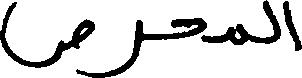X: (0, 0, 94, 77), (105, 15, 141, 77), (172, 13, 204, 46), (283, 0, 301, 55), (265, 0, 279, 48), (230, 19, 245, 49)
